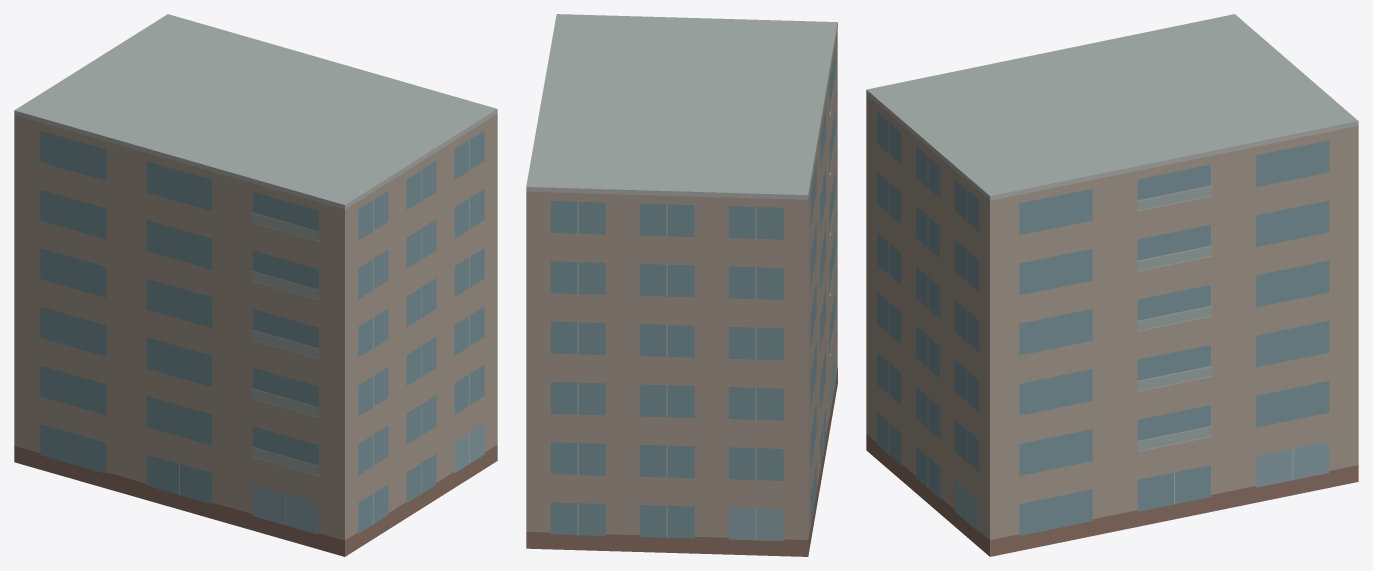
Rendered from survey-upis-33001801.glb.
3 renders of one model, left to right at view 1: azimuth 30°, elevation 25°; view 2: azimuth 150°, elevation 25°; view 3: azimuth 270°, elevation 25°, orthographic. The views are drawn at different scales.
Parts seen in each view (by area): view 1: survey-upis-33001801.tmp; view 2: survey-upis-33001801.tmp; view 3: survey-upis-33001801.tmp.
Boxes of the visible parts, <box> form: survey-upis-33001801.tmp: <box>14,14,497,556</box>; survey-upis-33001801.tmp: <box>526,14,837,556</box>; survey-upis-33001801.tmp: <box>866,14,1358,556</box>.
Size of the model in its own units: 20.15 by 18.6 by 23.01.
